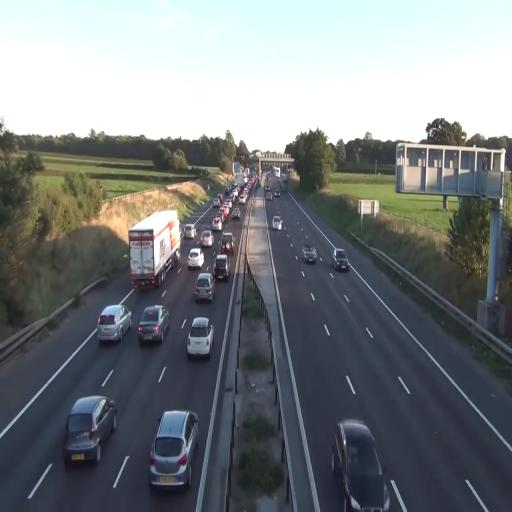vehicle: (332, 419, 390, 511), (148, 408, 200, 492), (129, 207, 180, 290), (62, 394, 117, 466), (97, 303, 132, 343), (137, 305, 170, 346), (187, 316, 215, 358), (195, 271, 215, 302), (213, 253, 229, 282), (332, 249, 350, 274), (187, 247, 204, 271), (221, 230, 235, 256), (302, 246, 318, 264), (230, 205, 242, 222), (271, 215, 282, 230)
